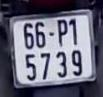1: (68, 15, 81, 46)
3: (56, 50, 69, 80)
5: (24, 51, 37, 82)
6: (22, 22, 35, 52), (35, 20, 47, 51)
7: (40, 50, 52, 82)
9: (71, 49, 84, 77)
P: (56, 18, 68, 48)
